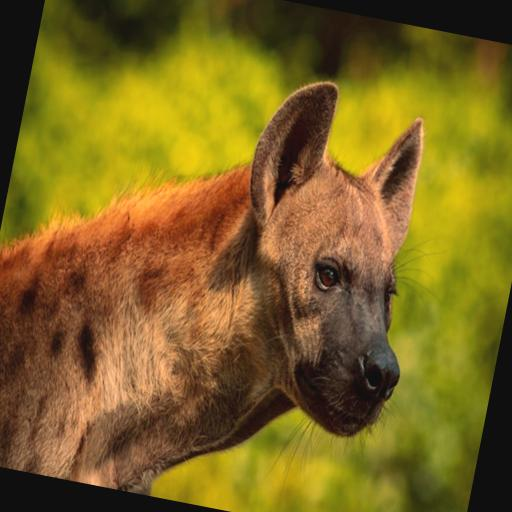hyenas: (0, 28, 464, 512)
